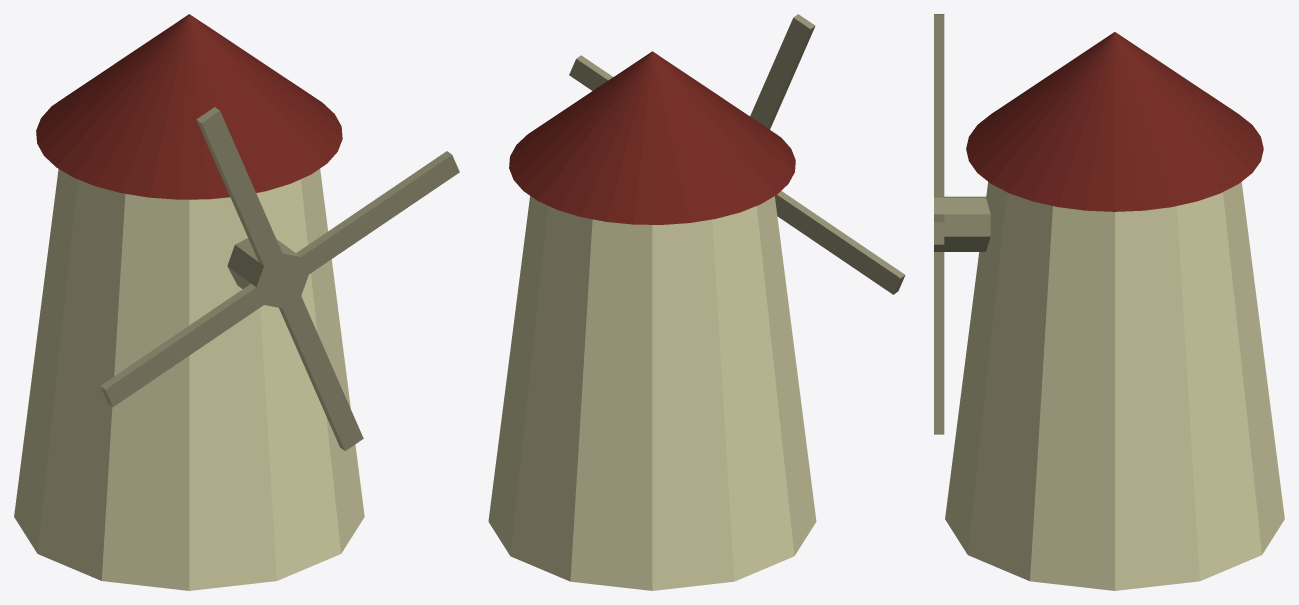
File: Windmill.fbx
3 renders of one model, left to right at view 1: azimuth 30°, elevation 25°; view 2: azimuth 150°, elevation 25°; view 3: azimuth 270°, elevation 25°, orthographic. The views are drawn at different scales.
Visible parts, largest first — view 1: Cylinder.015; view 2: Cylinder.015; view 3: Cylinder.015.
Part boxes in pixels (box(x1,y1,x2,y2)): Cylinder.015: box(14, 14, 459, 590); Cylinder.015: box(488, 14, 905, 590); Cylinder.015: box(934, 14, 1284, 590).
Bounding box in the file's own units: 325 × 440 × 287.
